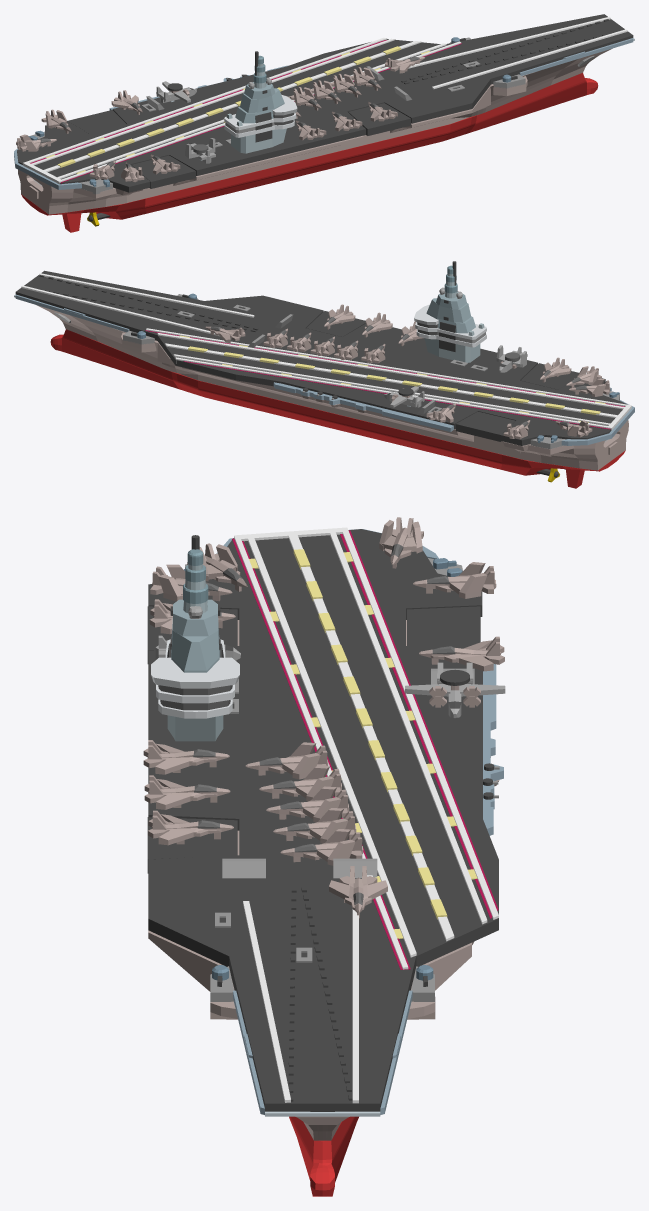
Rendered from cn-liaoning.glb.
3 renders of one model, top to bottom at view 1: azimuth 30°, elevation 25°; view 2: azimuth 150°, elevation 25°; view 3: azimuth 270°, elevation 25°, orthographic. The views are drawn at different scales.
Parts seen in each view (by area): view 1: carrier-candidate; view 2: carrier-candidate; view 3: carrier-candidate.
Boxes of the visible parts, left/top/right/bottom form: carrier-candidate: left=14, top=14, right=634, bottom=232; carrier-candidate: left=14, top=261, right=634, bottom=488; carrier-candidate: left=143, top=517, right=505, bottom=1196.
Size of the model in its own units: 316 by 77.34 by 83.41.
1 material, 1 textured.
